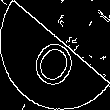O_NE: (25, 22, 85, 88)
